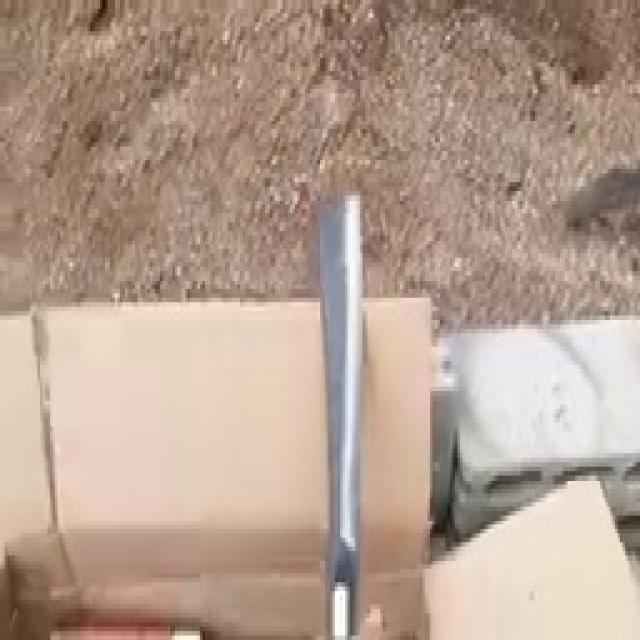eto: (318, 198, 361, 634)
